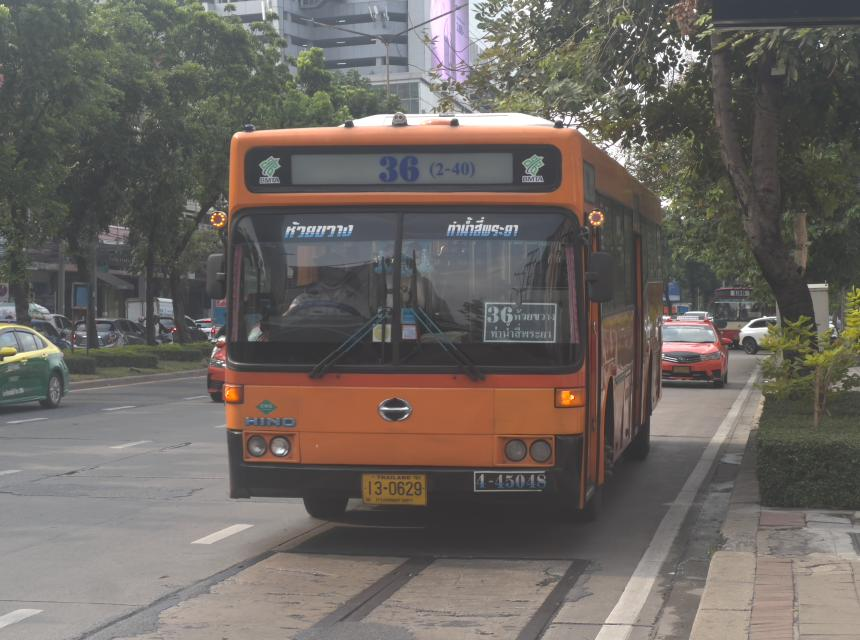BMTA-bus: (209, 115, 666, 526)
Bus Line Number: (365, 154, 481, 188)
Bus Side Number: (470, 468, 550, 491)
Destination Sign: (487, 301, 557, 344)
